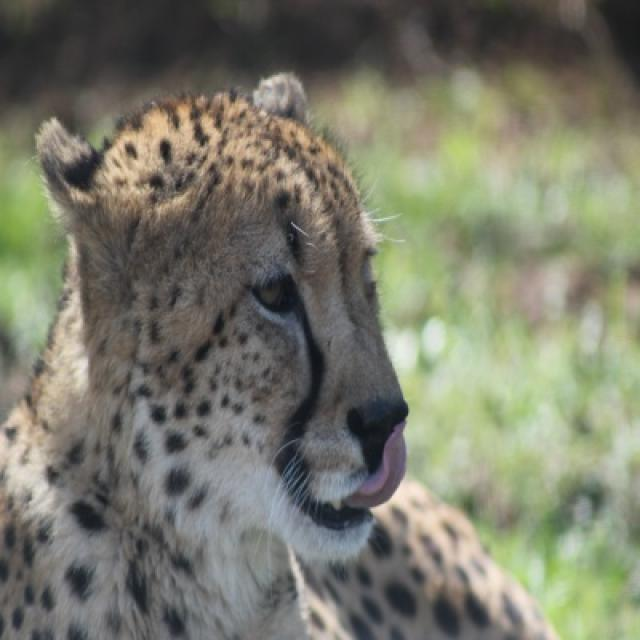Cheetah: (0, 64, 556, 638)
